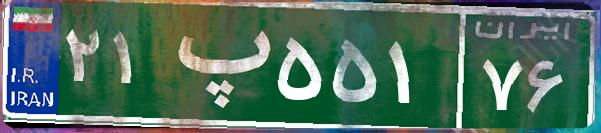1: (385, 28, 445, 110), (110, 28, 158, 105)
2: (57, 26, 110, 107)
5: (273, 28, 330, 110), (330, 28, 385, 110)
6: (525, 38, 570, 115)
7: (475, 38, 525, 113)
پ: (158, 15, 273, 115)
